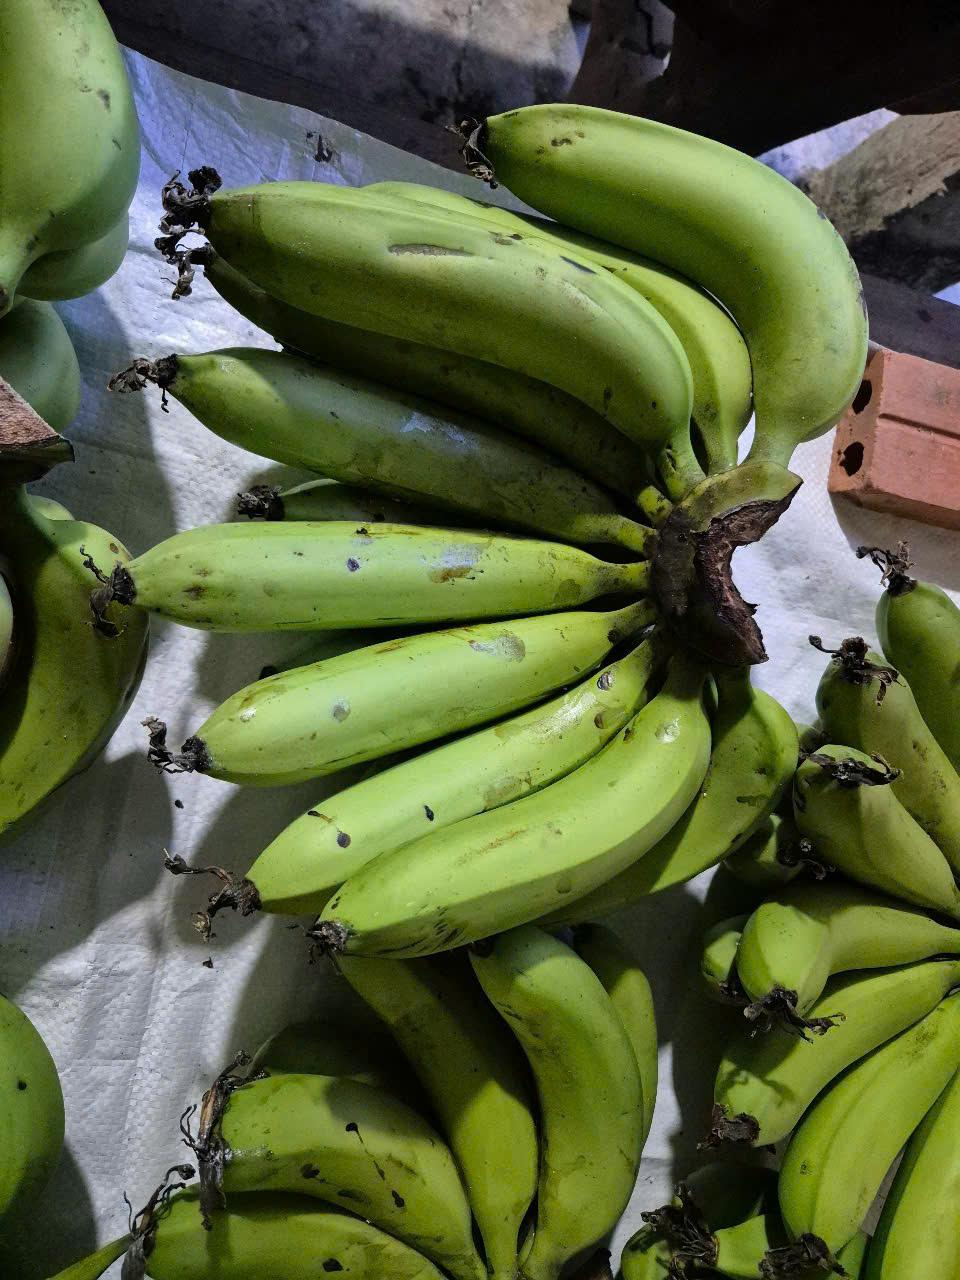banana: (153, 90, 876, 548), (84, 490, 766, 959), (687, 546, 960, 1280), (176, 953, 693, 1280)
